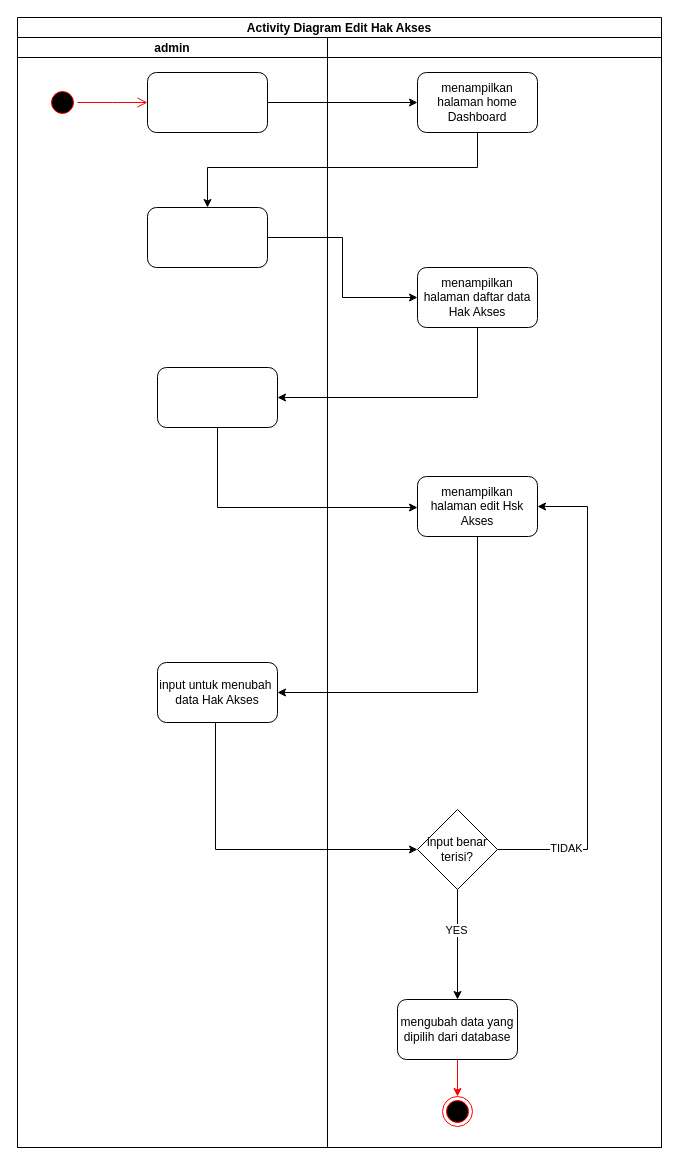
Some shapes in this 679 by 1165 pixel diagram are drawn without their labels. Here are the shapes that lost their labels. From the top down, the box of each, then its label:
(146, 72, 268, 132): Login
(146, 206, 268, 268): klik menu "Administrator" pilh "Hak Akses"
(156, 366, 278, 428): klik "edit" pada data di table daftar Hak Akses
(326, 36, 662, 1148): sistem
